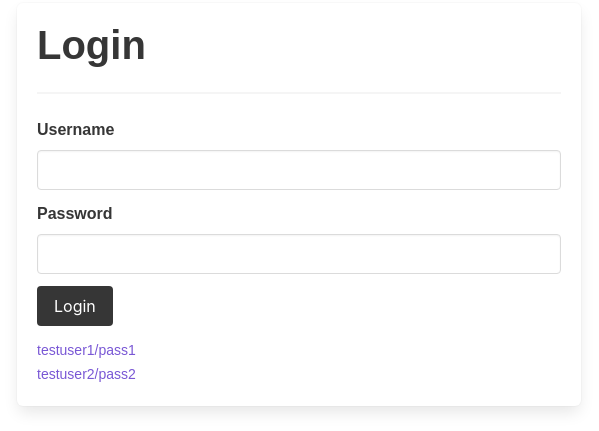
Test case: Login.vue › fills in user credentials when helper link is clicked
The width and height of the screenshot is (599, 431).
// Wait for and click the first user link
Click the text "testuser1/pass1" at (86, 350), box [37,342,136,358]
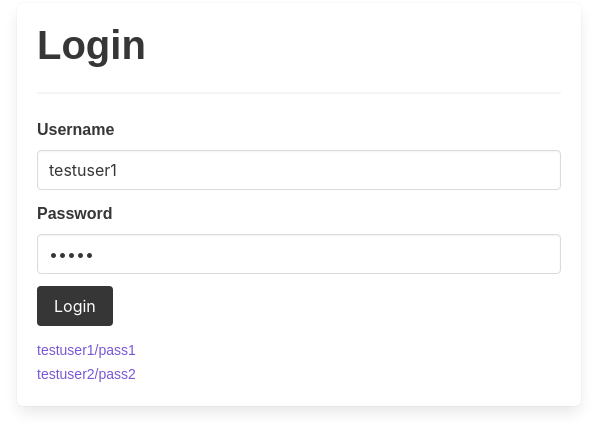
Expected: the field labelled "Username" holds "testuser1", [37,150,561,190]
Expected: the password field labelled "Password" holds "pass1", [37,234,561,274]
